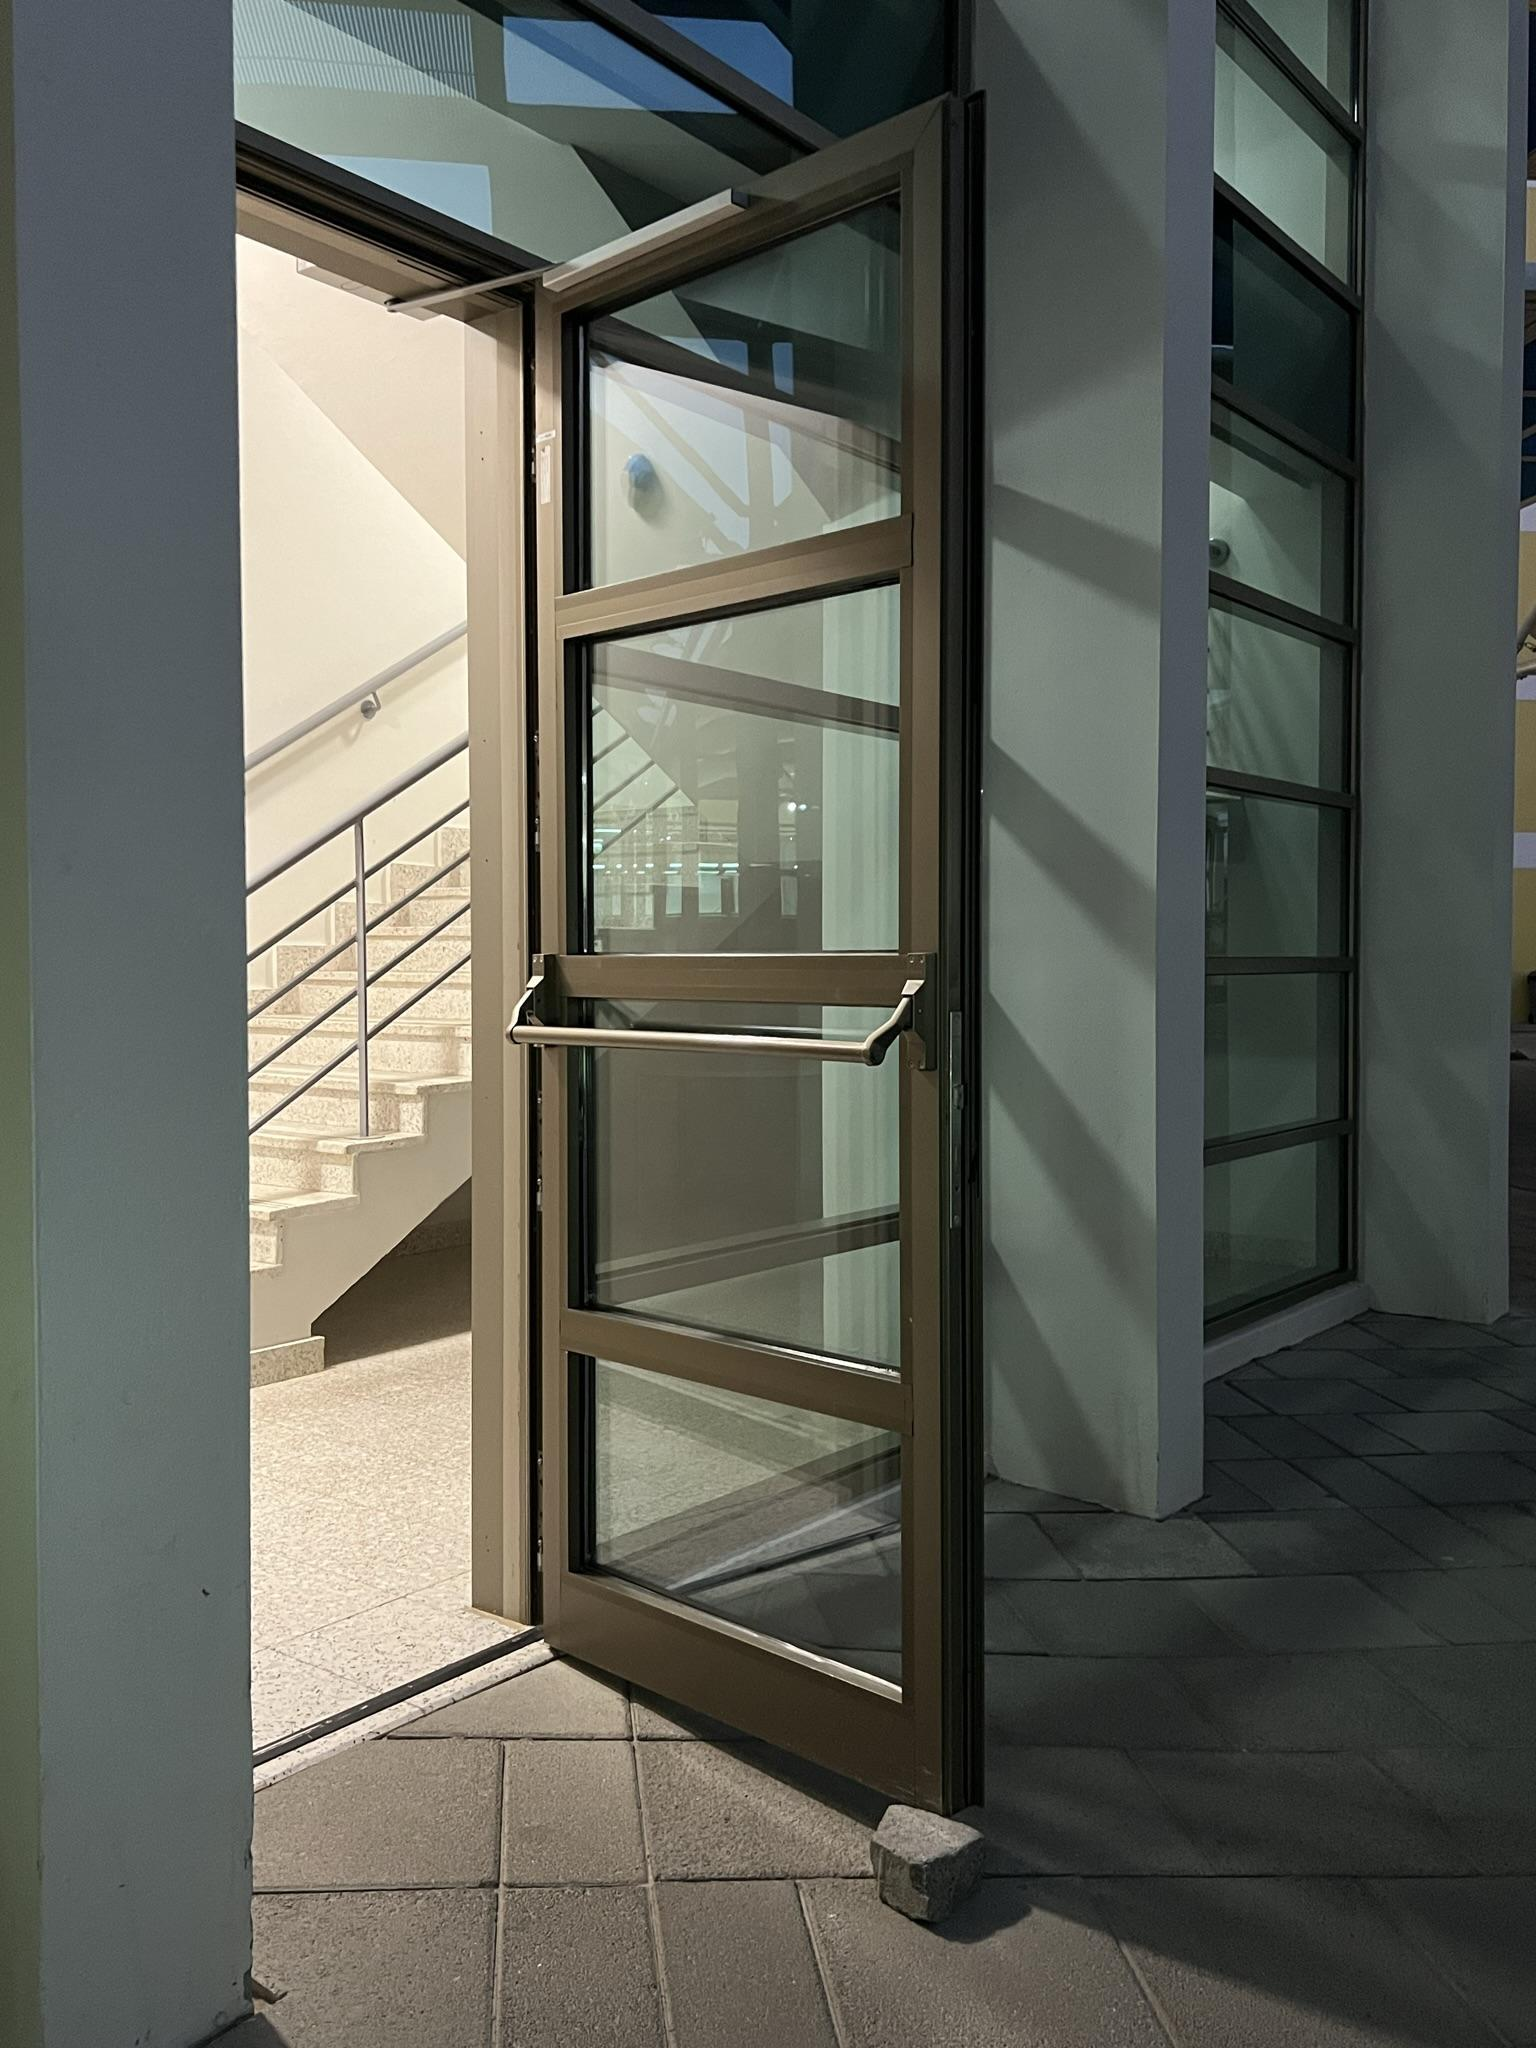door: (523, 166, 973, 1771)
handle: (502, 947, 933, 1074)
